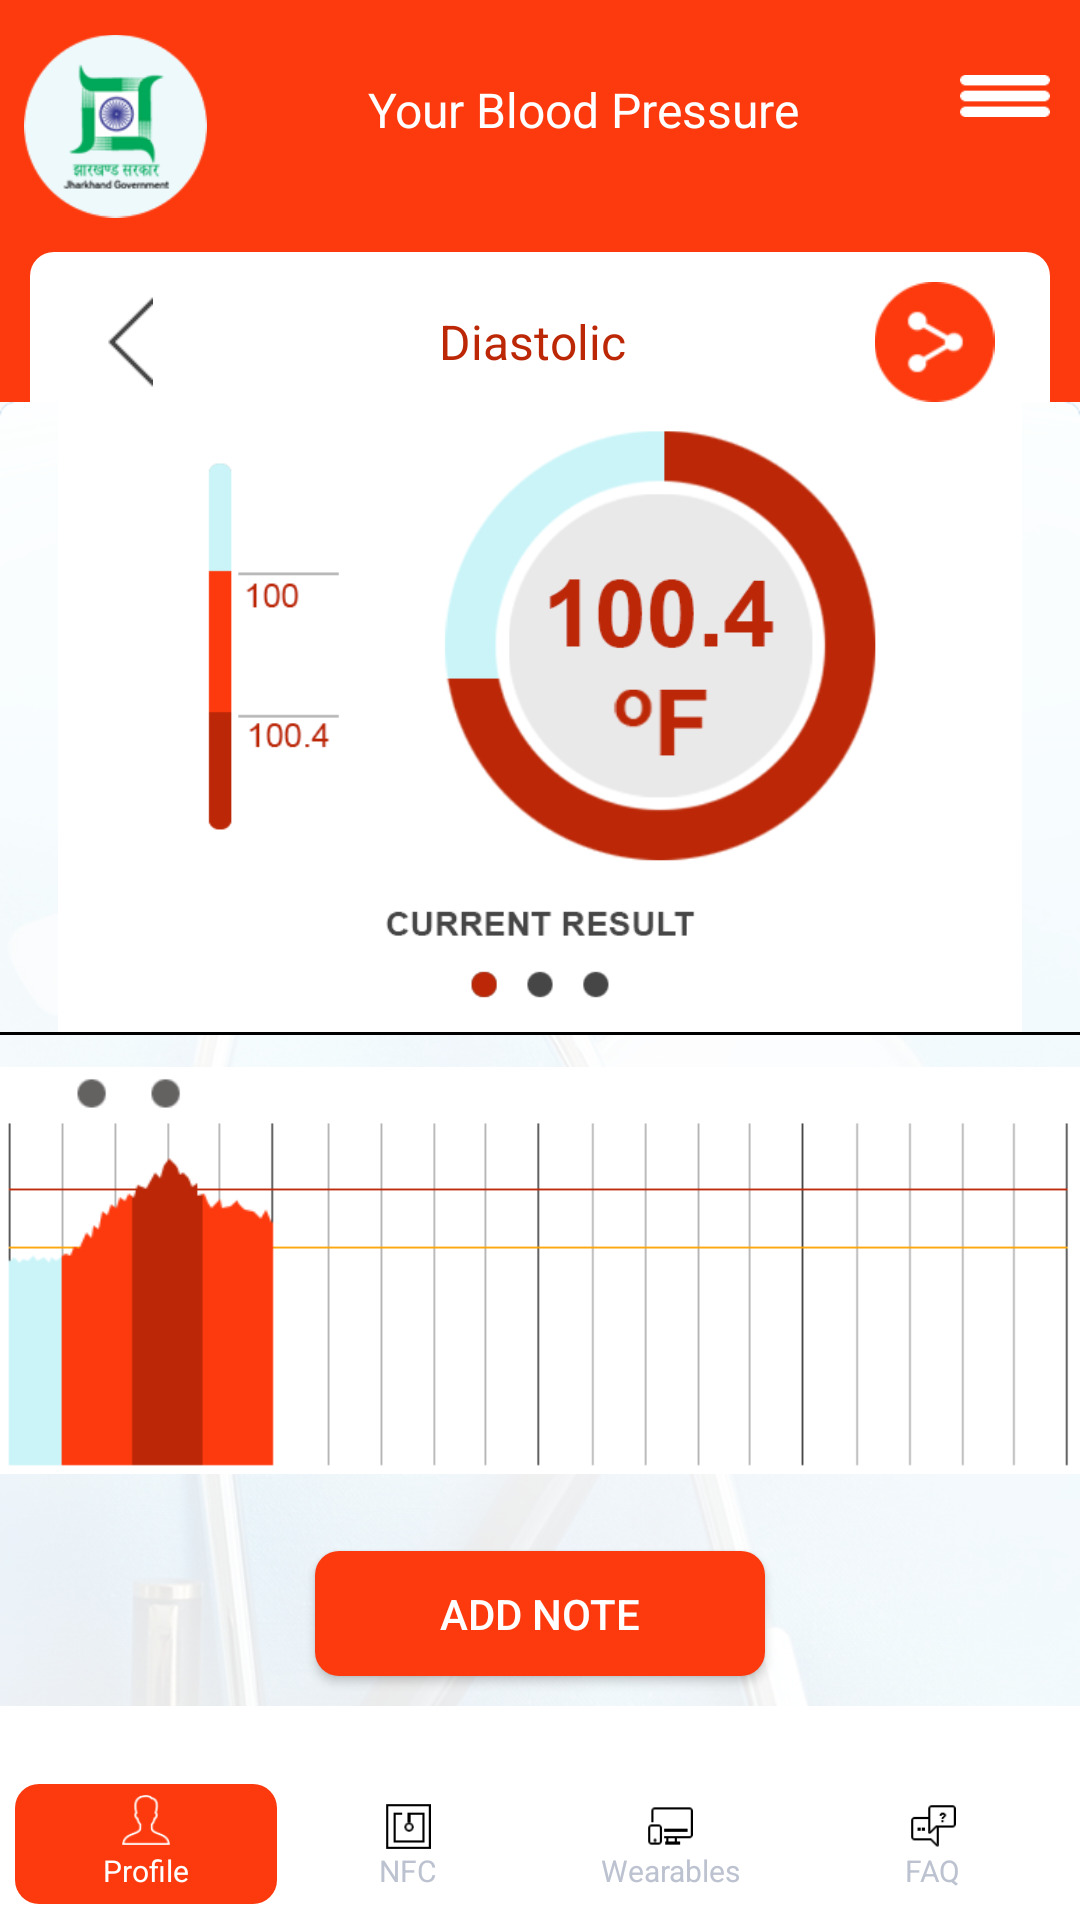

Icons on this 1080w x 1920h Android screen, each with the point to tap as (x,y):
back: (130,342)
menu: (1005,96)
share: (935,342)
